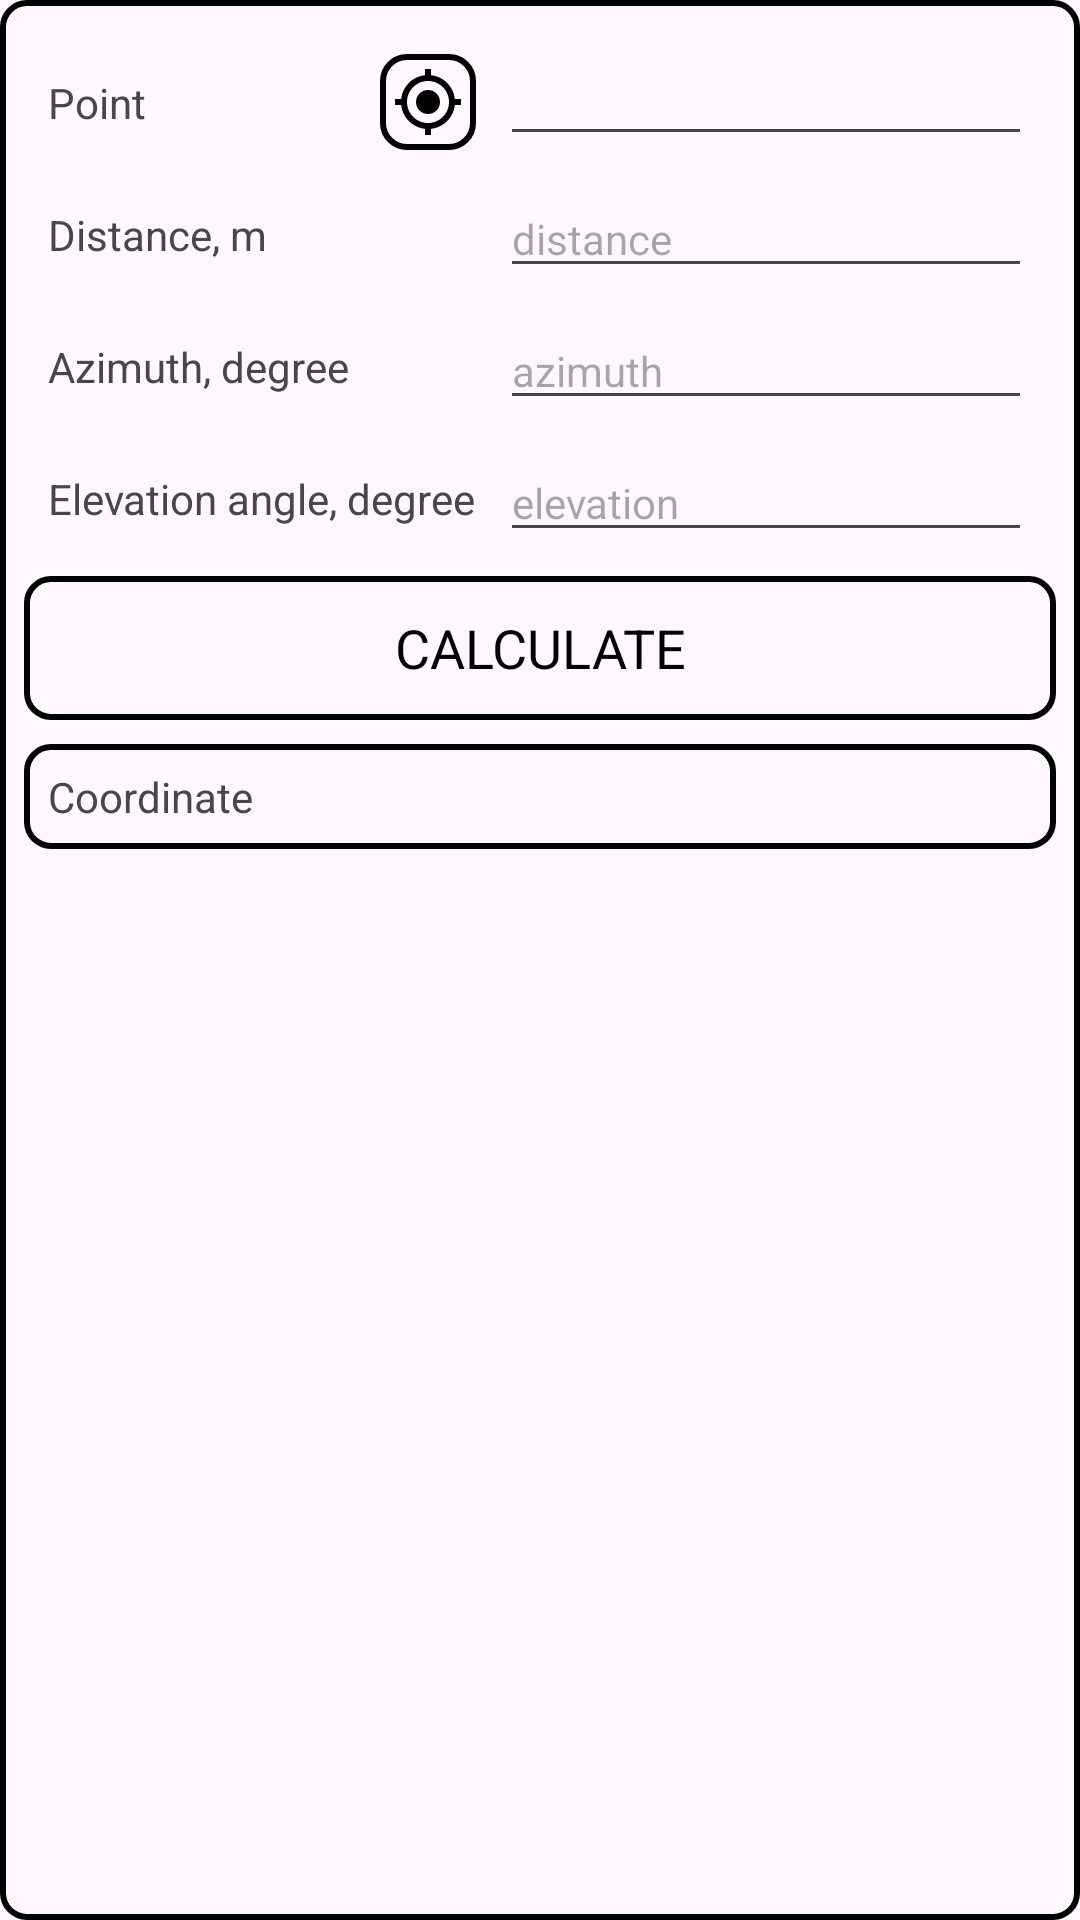

Icon click points for this 1080 × 1920 phone screenshot, format point (x, y):
location: point (428, 102)
